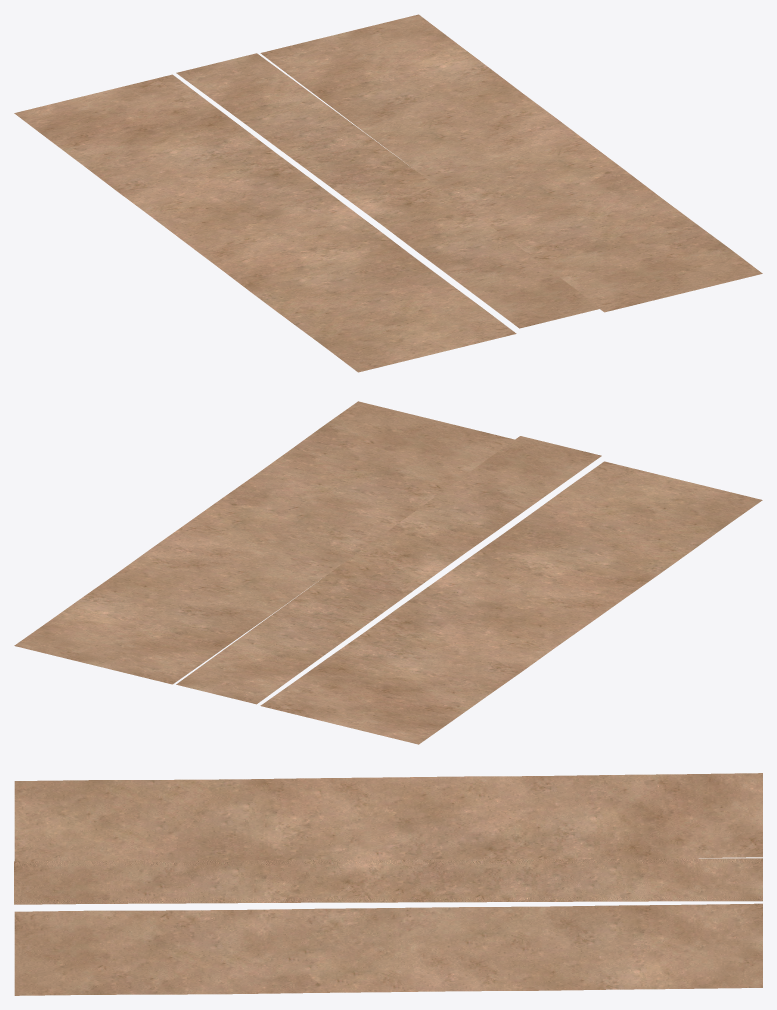
File: SM_GHM_Ground01A.fbx
3 views of the same model, one above another, from view 1: azimuth 30°, elevation 25°; view 2: azimuth 150°, elevation 25°; view 3: azimuth 270°, elevation 25° (orthographic). The views are drawn at different scales.
Parts seen in each view (by area): view 1: SM_GHM_Ground01A; view 2: SM_GHM_Ground01A; view 3: SM_GHM_Ground01A.
Boxes of the visible parts, box(x1,y1,x2,y2) form: SM_GHM_Ground01A: box(14, 14, 762, 372); SM_GHM_Ground01A: box(14, 401, 762, 744); SM_GHM_Ground01A: box(14, 773, 762, 995).
Bounding box in the file's own units: 2915 × 55.8 × 4297.
